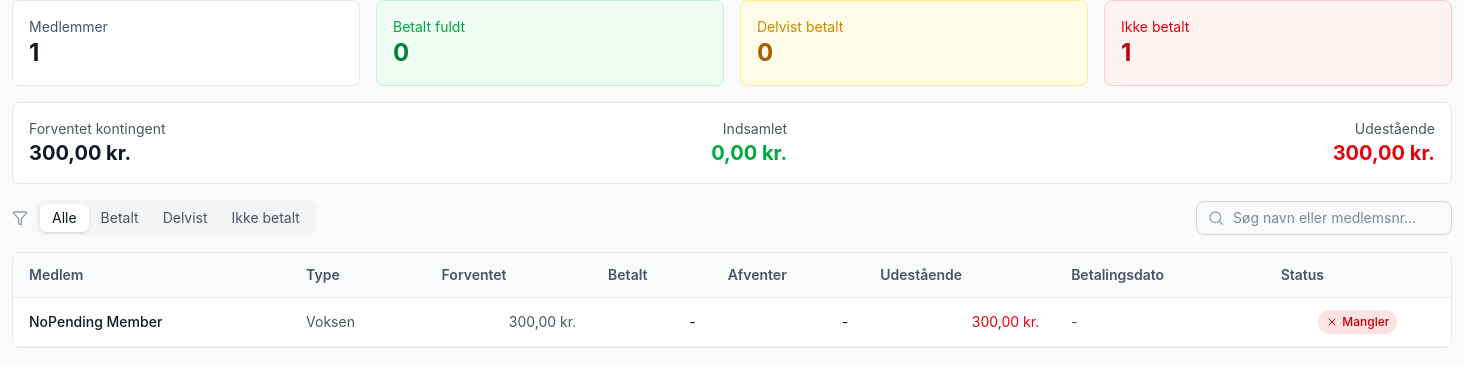
Test case: MemberFeeStatusTable filters › does not show members without pending in partial filter
Click the button "Delvist": (185, 218) [151,204,220,232]
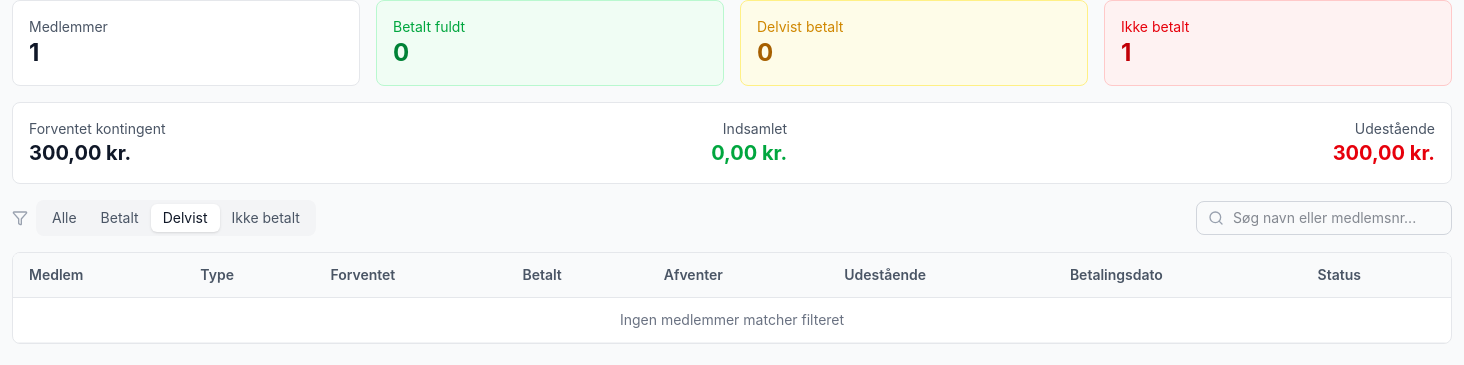
expect the text "Ingen medlemmer matcher filteret" is shown: met, box [13,298,1451,342]
